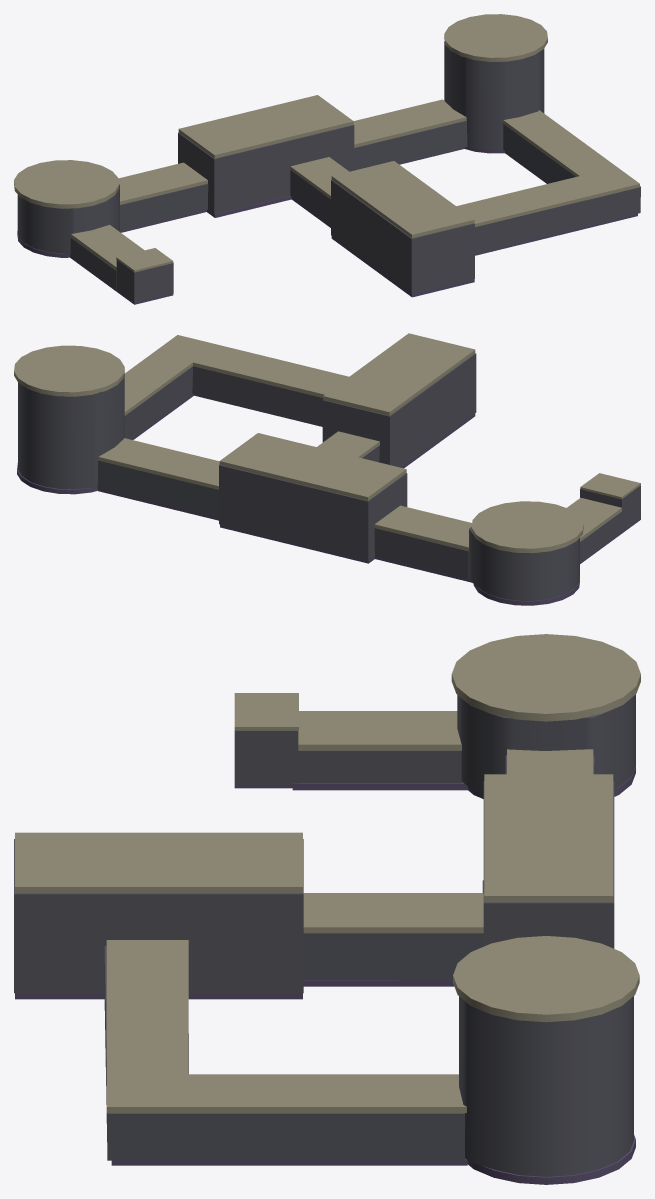
File: blockin g1.fbx
3 renders of one model, top to bottom at view 1: azimuth 30°, elevation 25°; view 2: azimuth 150°, elevation 25°; view 3: azimuth 270°, elevation 25°, orthographic. The views are drawn at different scales.
Visible parts, largest first — view 1: pCube24, pCube20, pCube33, pCylinder14, pCube45, pCube18 (×2), pCube17, pCylinder11, pCylinder15, pCylinder13, pCube42, pCube46 (+9 smaller); view 2: pCube20, pCylinder14, pCube24, pCube17 (×2), pCube33, pCube18, pCube45, pCylinder13, pCylinder11 (×2), pCylinder15, pCube42, pCube46 (+10 smaller); view 3: pCylinder14, pCube33, pCube24, pCube18 (×2), pCube45, pCube17, pCylinder11, pCylinder15, pCylinder13, pCube44, pCube34, pCube36 (+9 smaller).
Part boxes in pixels (<box>): pCube24: <box>331,180,474,294</box>; pCube20: <box>178,125,354,214</box>; pCube33: <box>456,110,639,226</box>; pCylinder14: <box>444,41,544,149</box>; pCube45: <box>475,124,640,253</box>; pCube18 (×2): <box>331,161,474,297</box>; pCube17: <box>178,95,353,158</box>; pCylinder11: <box>14,160,118,208</box>; pCylinder15: <box>444,14,547,61</box>; pCylinder13: <box>17,184,119,254</box>; pCube42: <box>354,120,467,170</box>; pCube46: <box>353,99,466,147</box>; pCube20: <box>219,464,407,560</box>; pCylinder14: <box>18,371,124,489</box>; pCube24: <box>322,353,476,467</box>; pCube17 (×2): <box>219,433,406,563</box>; pCube33: <box>124,335,348,415</box>; pCube18: <box>323,333,475,415</box>; pCube45: <box>124,366,322,439</box>; pCylinder13: <box>469,527,579,600</box>; pCylinder11 (×2): <box>471,501,583,605</box>; pCylinder15: <box>14,345,124,396</box>; pCube42: <box>97,460,218,517</box>; pCube46: <box>98,438,219,489</box>; pCylinder14: <box>459,996,633,1176</box>; pCube33: <box>106,940,466,1112</box>; pCube24: <box>14,839,303,993</box>; pCube18 (×2): <box>15,832,302,999</box>; pCube45: <box>104,946,464,1160</box>; pCube17: <box>484,774,613,902</box>; pCylinder11: <box>451,634,640,721</box>; pCylinder15: <box>453,936,639,1022</box>; pCylinder13: <box>457,694,635,793</box>; pCube44: <box>303,933,483,980</box>; pCube34: <box>303,893,483,933</box>; pCube36: <box>298,711,461,750</box>.
Bounding box in the file's own units: 13537 × 2436 × 7884.
